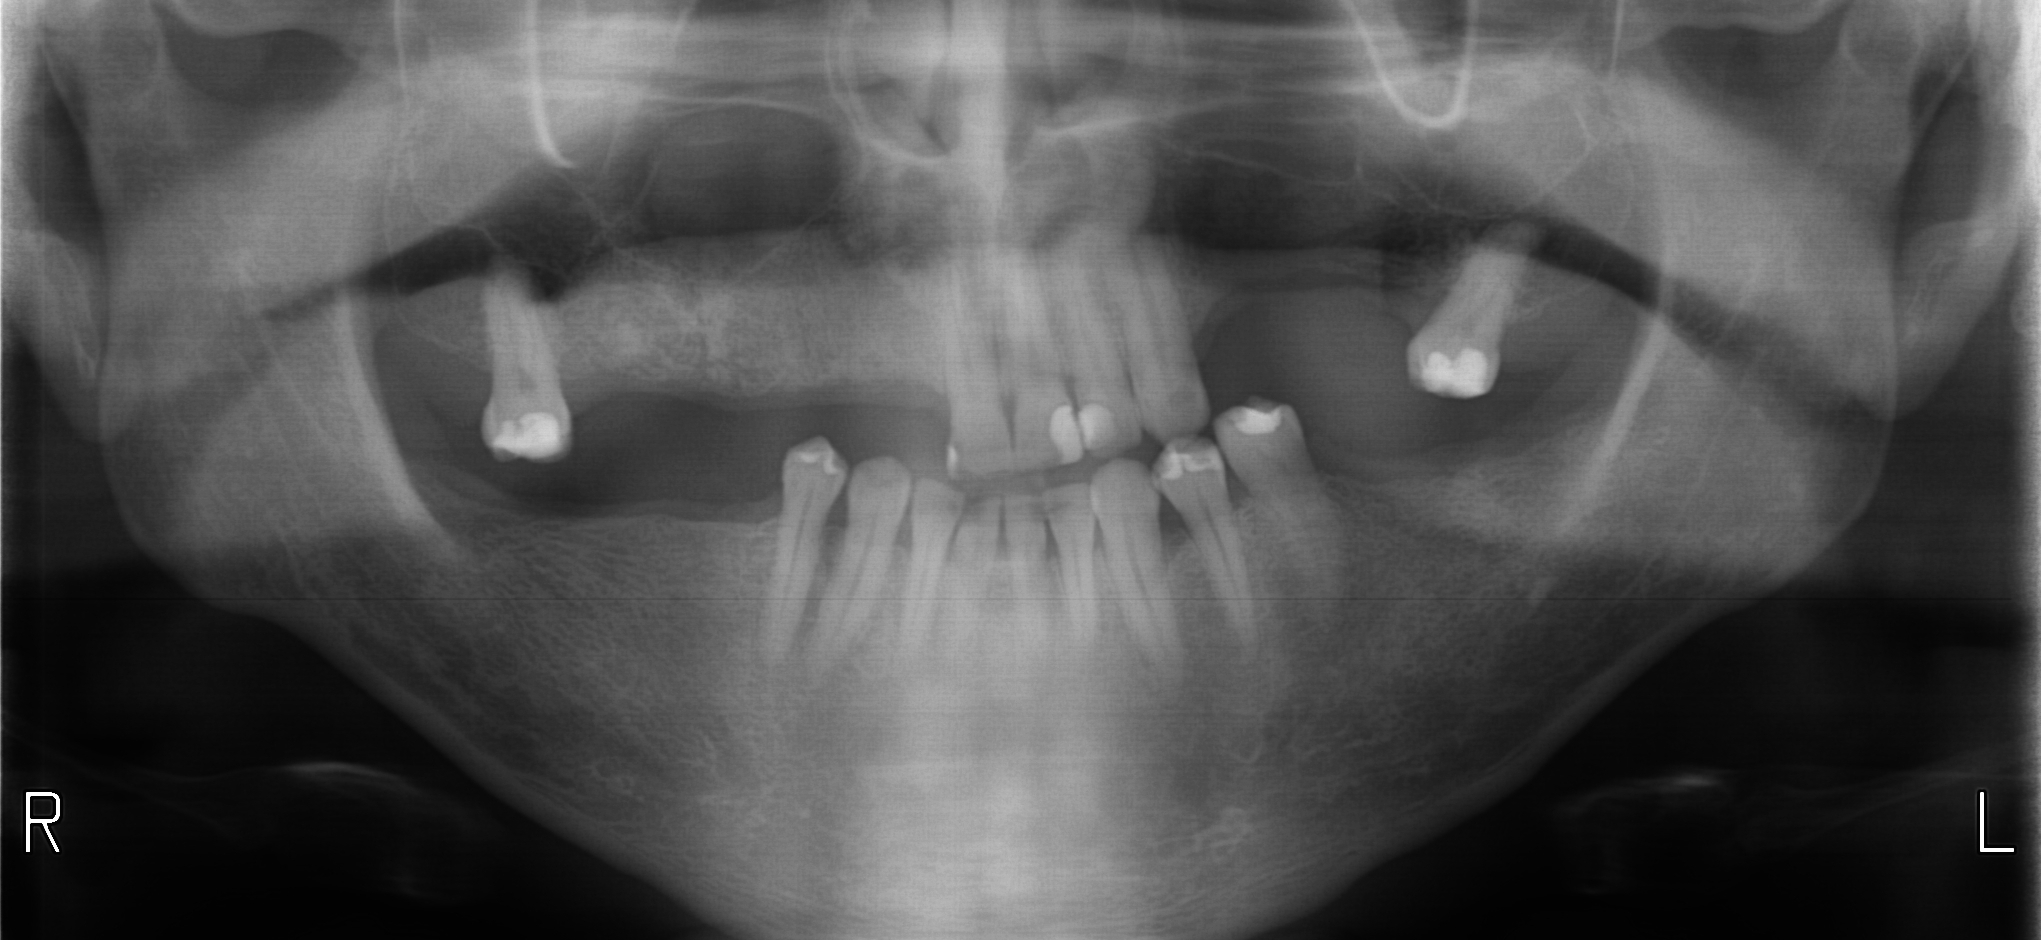cavity: (1173, 389, 1194, 411)
